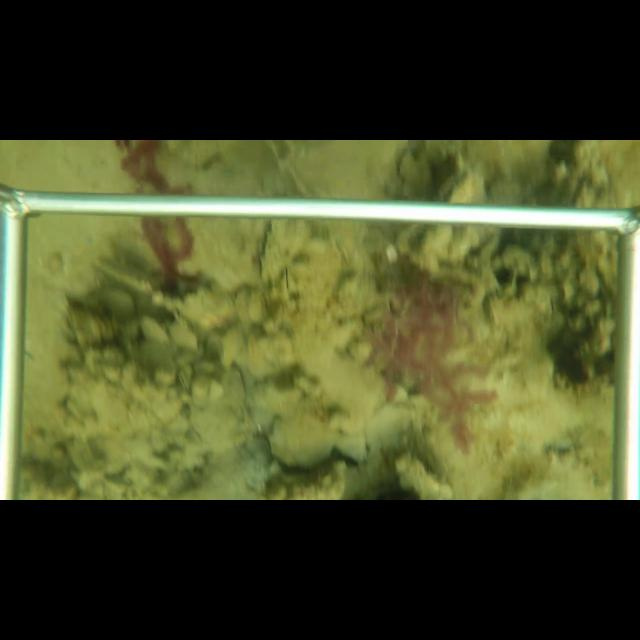Oyster-Closed: (257, 220, 288, 287)
